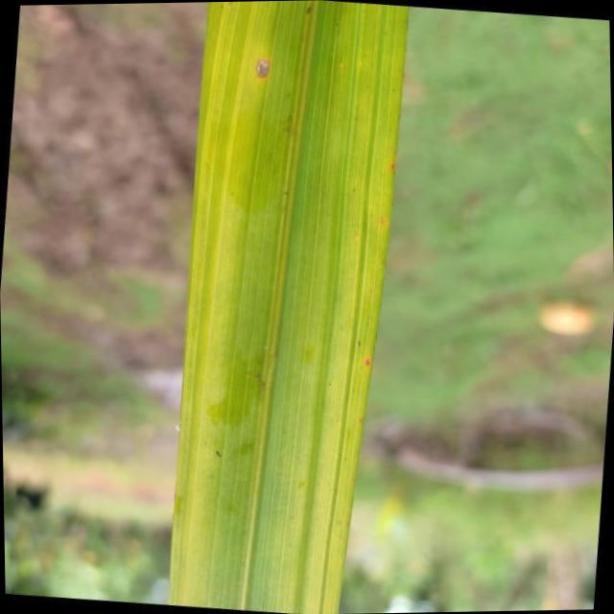nitrogen: (160, 0, 408, 614)
